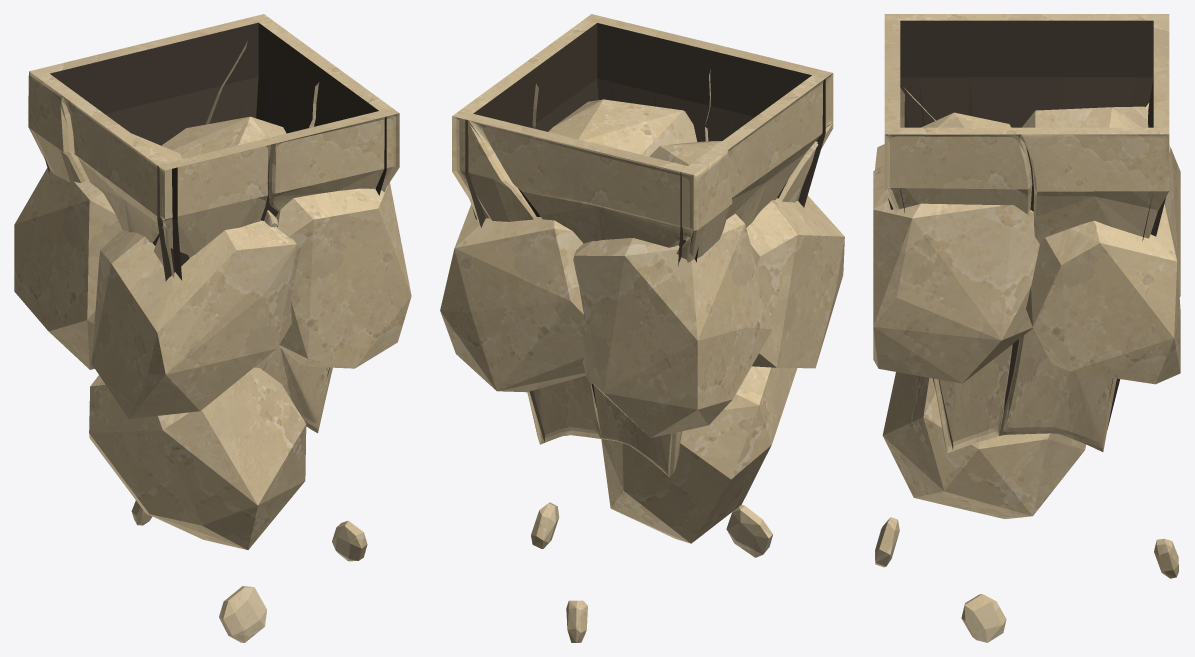
The model's file is ground_bottom_square_island_09.glb.
The picture shows the model from 3 angles, left to right: view 1: azimuth 30°, elevation 25°; view 2: azimuth 150°, elevation 25°; view 3: azimuth 270°, elevation 25°; orthographic projection. The views are drawn at different scales.
Parts seen in each view (by area): view 1: GroundBottomSquareIsland09_Body; view 2: GroundBottomSquareIsland09_Body; view 3: GroundBottomSquareIsland09_Body.
Boxes of the visible parts, x1,y1,x2,y2 form: GroundBottomSquareIsland09_Body: (14, 14, 411, 642); GroundBottomSquareIsland09_Body: (440, 14, 844, 642); GroundBottomSquareIsland09_Body: (873, 14, 1180, 642).
Size of the model in its own units: 1.08 by 1.99 by 1.08.
Materials: 14 (13 with a texture image).
